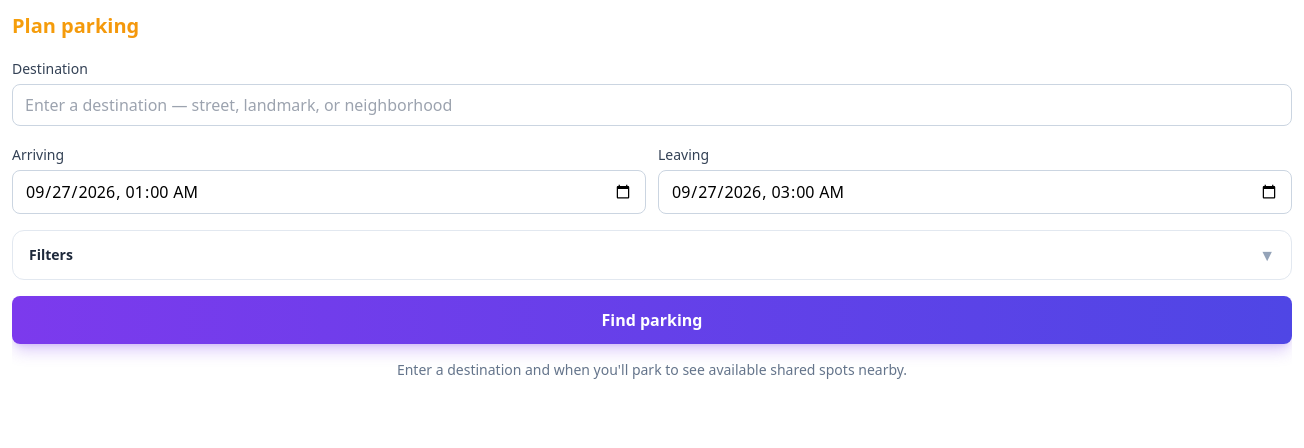
Test case: Explore › rejects a departure before the arrival
In the dropdown labelled "Destination": (652, 105) left=12, top=84, right=1292, bottom=126, type "West"
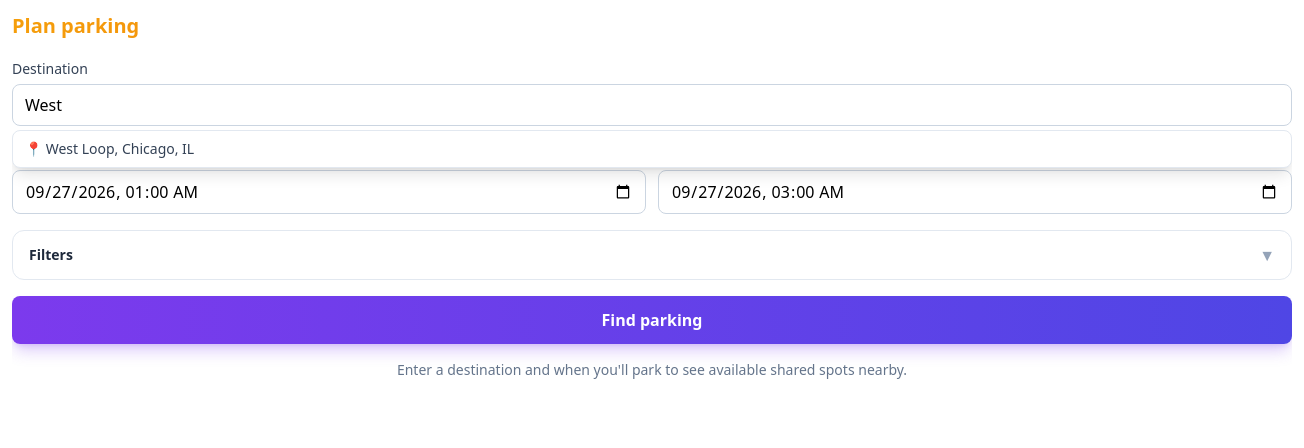
Click the option "📍 West Loop, Chicago, IL": (120, 148) left=13, top=131, right=1291, bottom=167
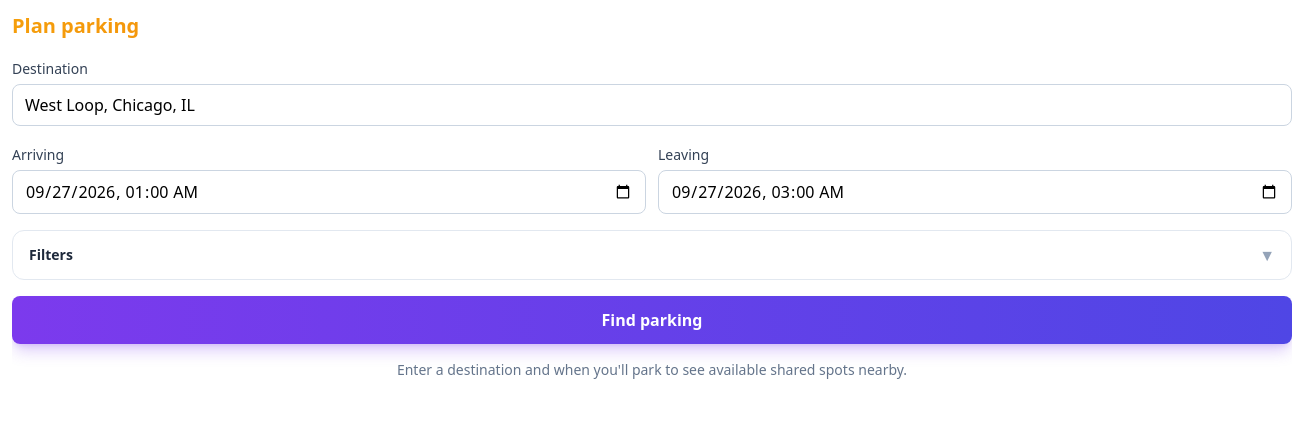
Replace the text in the field labelled "Arriving" with "2026-09-25T12:00": (329, 192) left=12, top=170, right=646, bottom=214
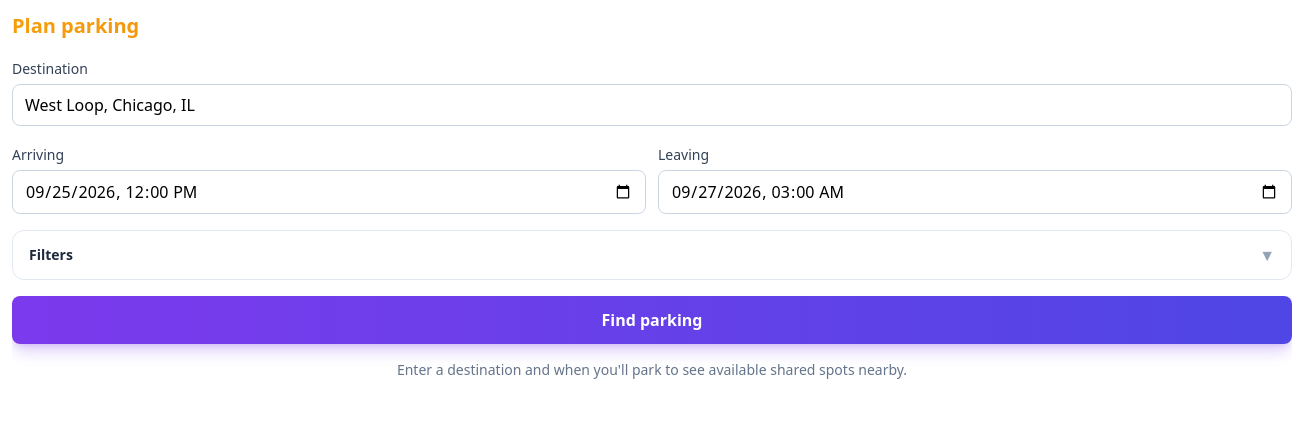
Replace the text in the field labelled "Leaving" with "2026-09-25T10:00": (975, 192) left=658, top=170, right=1292, bottom=214
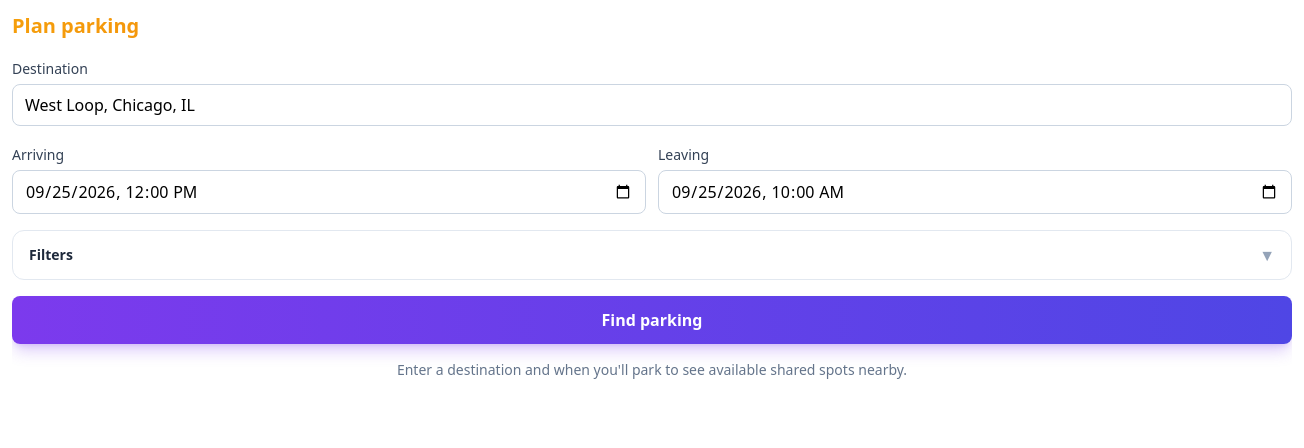
Click the button "Find parking": (652, 320) left=12, top=296, right=1292, bottom=344
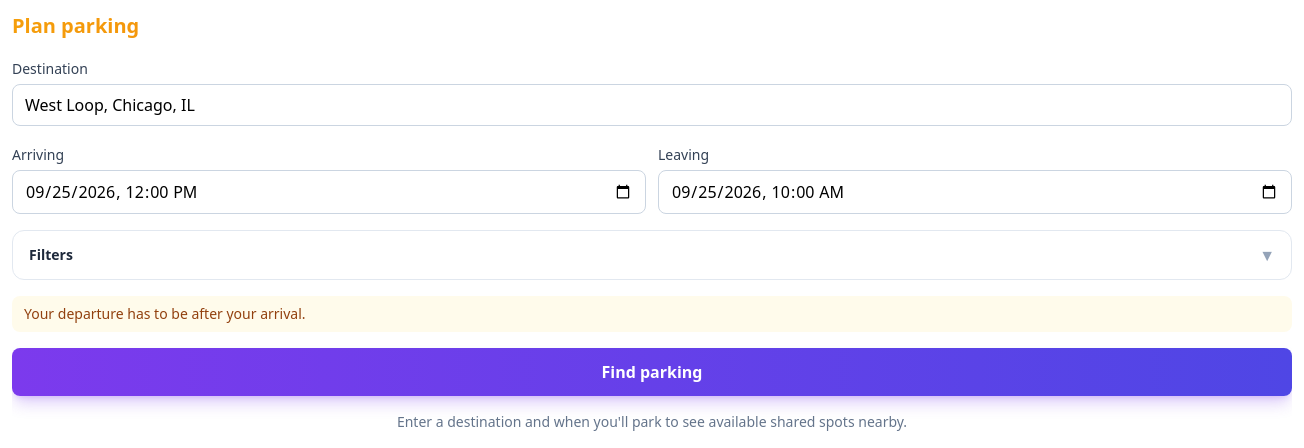
Expected: the text "Your departure has to be after your arrival." is shown, left=12, top=296, right=1292, bottom=332
